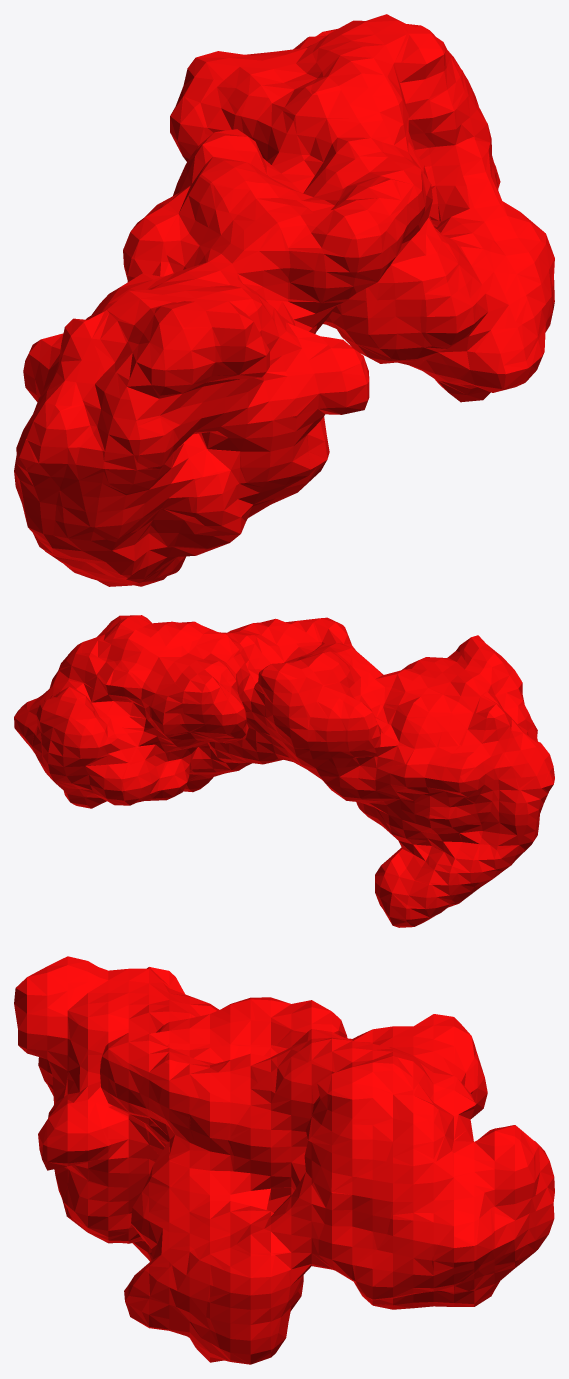
Rendered from Guanine_nucleotide_binding_pro_4_coarse.dae.
The picture shows the model from 3 angles, top to bottom: view 1: azimuth 30°, elevation 25°; view 2: azimuth 150°, elevation 25°; view 3: azimuth 270°, elevation 25°; orthographic projection. The views are drawn at different scales.
Visible parts, largest first — view 1: Guanine_nucleotide_binding_pro_4; view 2: Guanine_nucleotide_binding_pro_4; view 3: Guanine_nucleotide_binding_pro_4.
Boxes of the visible parts, x1=… form: Guanine_nucleotide_binding_pro_4: x1=14, y1=14, x2=554, y2=586; Guanine_nucleotide_binding_pro_4: x1=14, y1=615, x2=554, y2=927; Guanine_nucleotide_binding_pro_4: x1=14, y1=956, x2=554, y2=1364.
Size of the model in its own units: 131 by 85.25 by 103.
